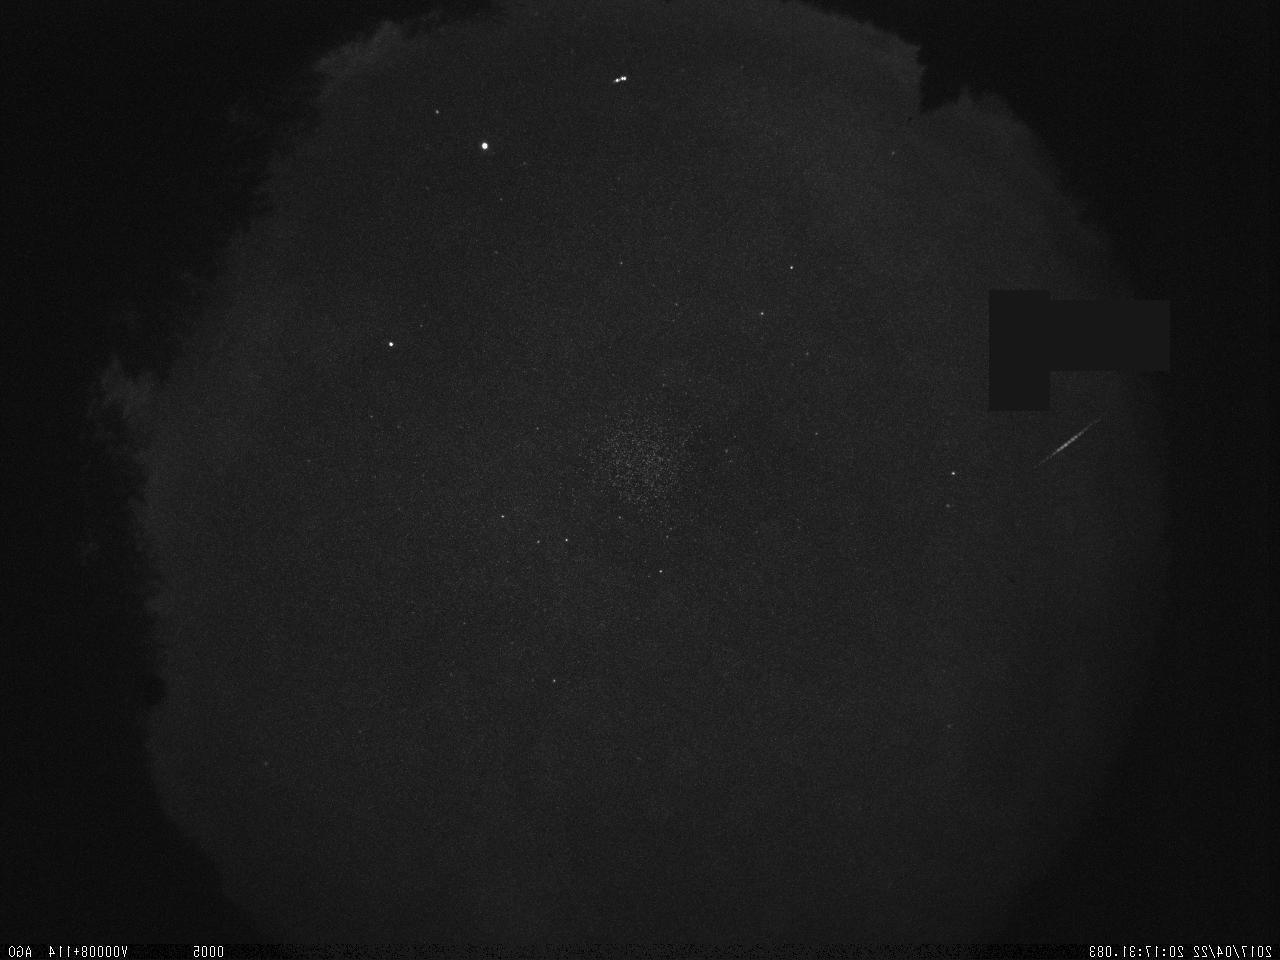meteor: (1016, 397, 1125, 490)
